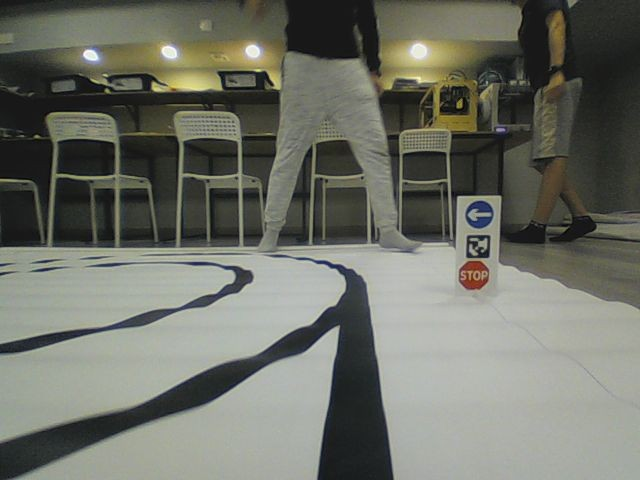Stop: (457, 259, 491, 291)
